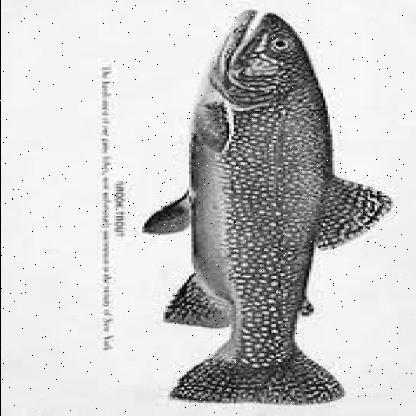fish: (130, 4, 384, 411)
